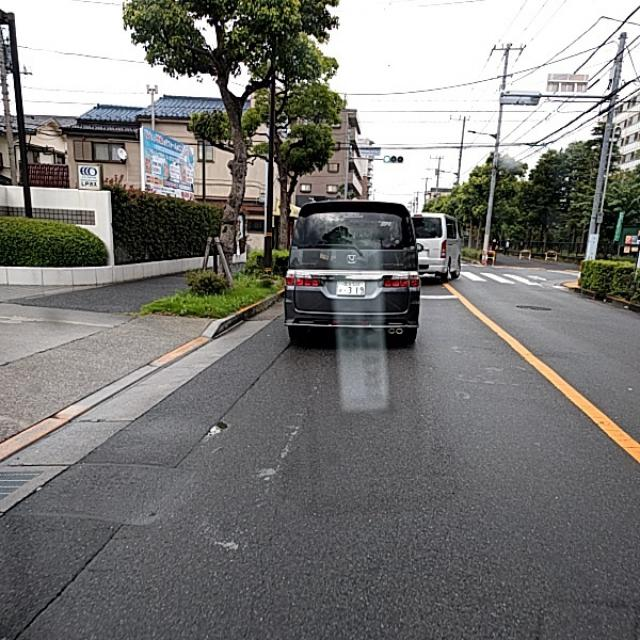pothole: (162, 410, 237, 458)
